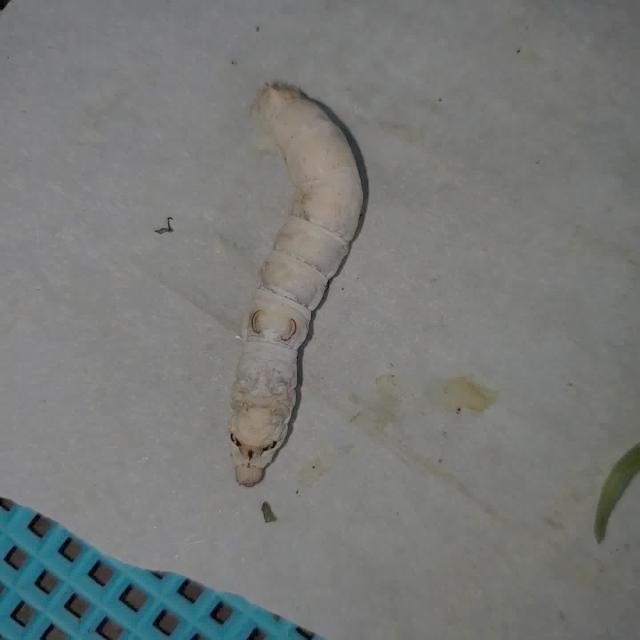Grasserie: (205, 53, 379, 504)
